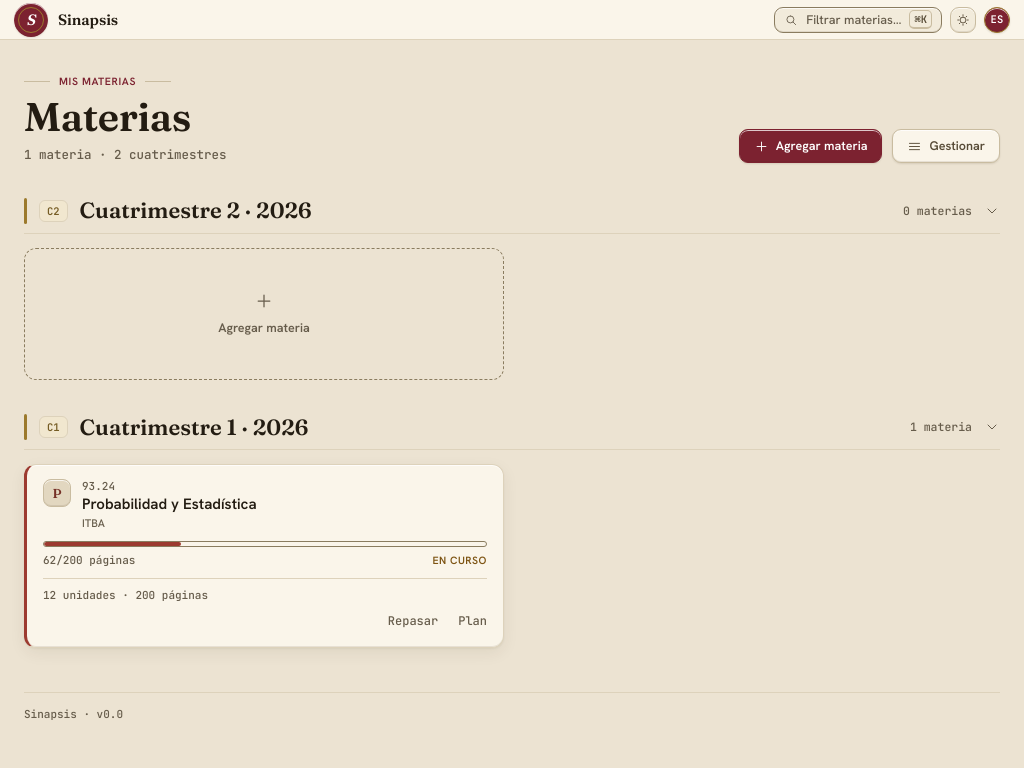
Test: <LandingPage/> · agregar cuatrimestre › no duplica un cuatrimestre que solo difiere en la caja
The width and height of the screenshot is (1024, 768).
Expected: the element "Cuatrimestre 2 · 2026" is shown, x1=24 y1=189 x2=1000 y2=380
Click the button "Gestionar" at (946, 146), box x1=892 y1=129 x2=1000 y2=163
(page scrolled)
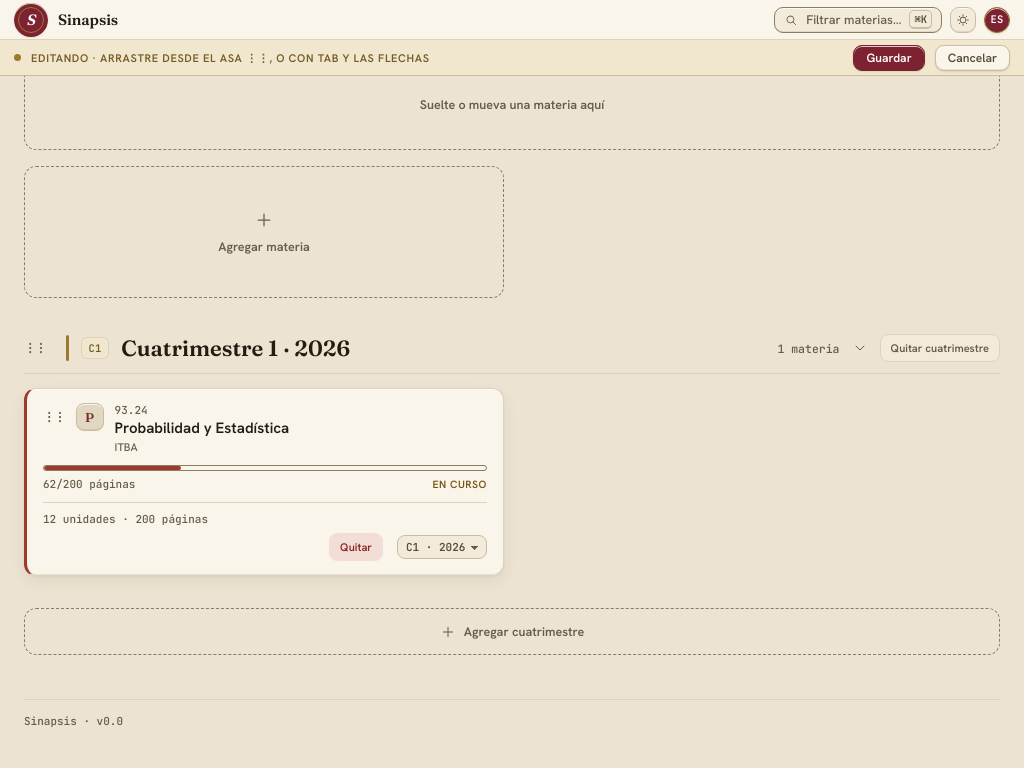
Click the button "Agregar cuatrimestre" at (512, 632), box x1=24 y1=608 x2=1000 y2=655
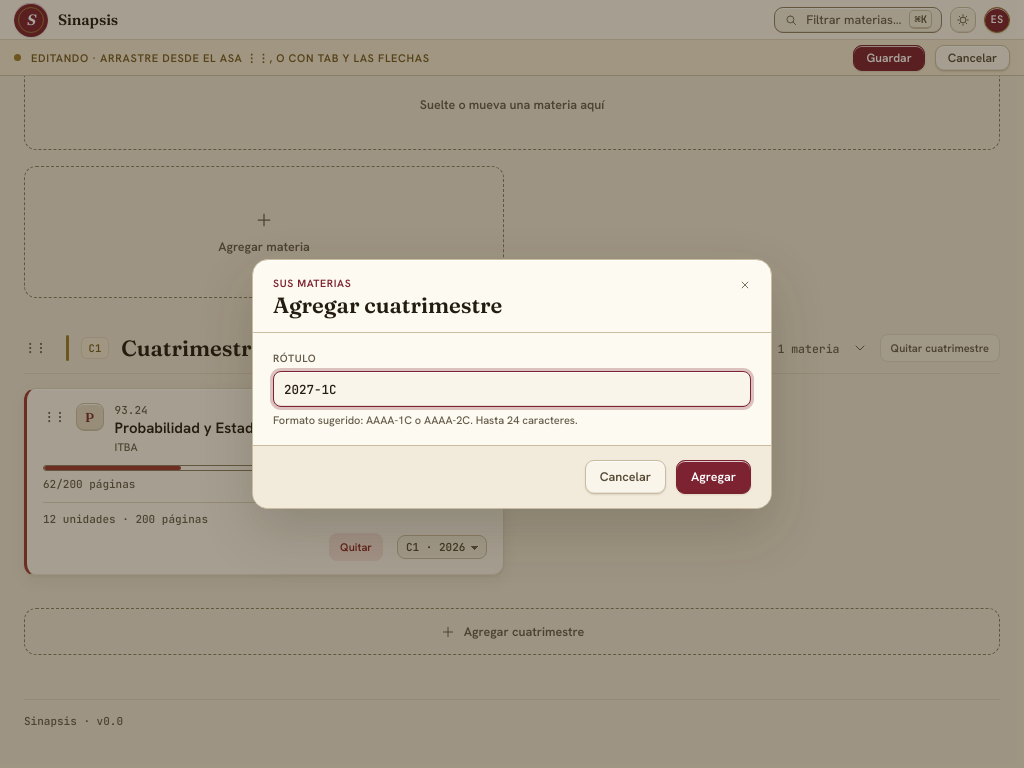
Replace the text in the field labelled "Rótulo" with "2026-1c" at (512, 389), box x1=273 y1=371 x2=751 y2=407
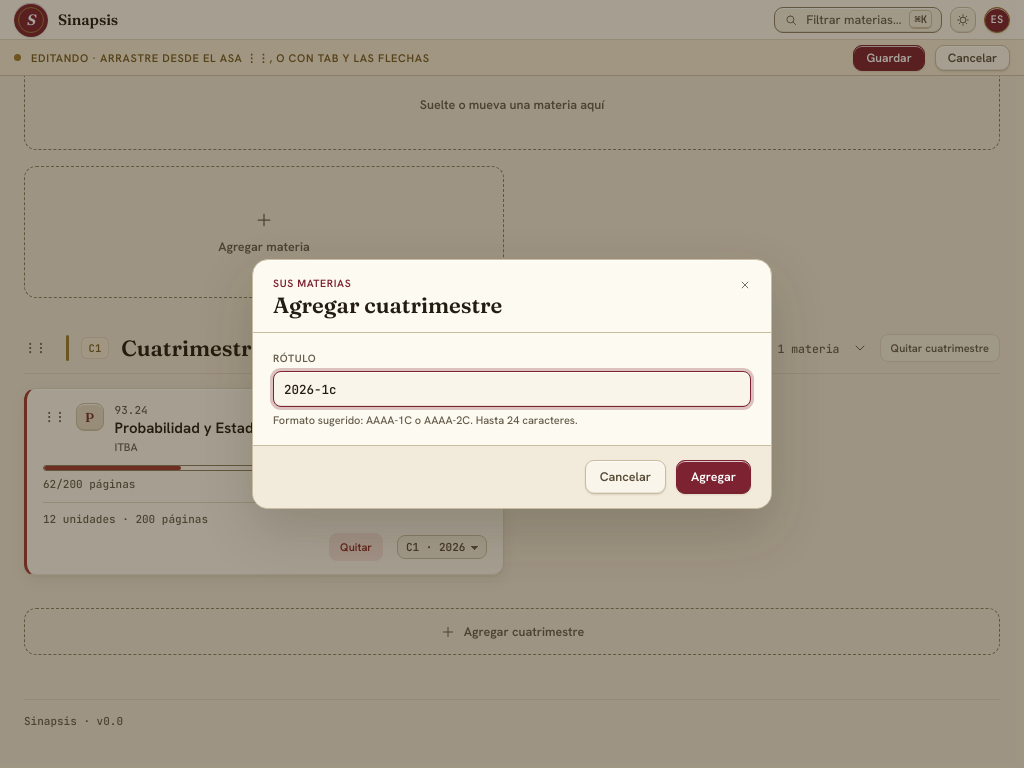
Click the button "Agregar" at (714, 477), box x1=676 y1=460 x2=751 y2=494
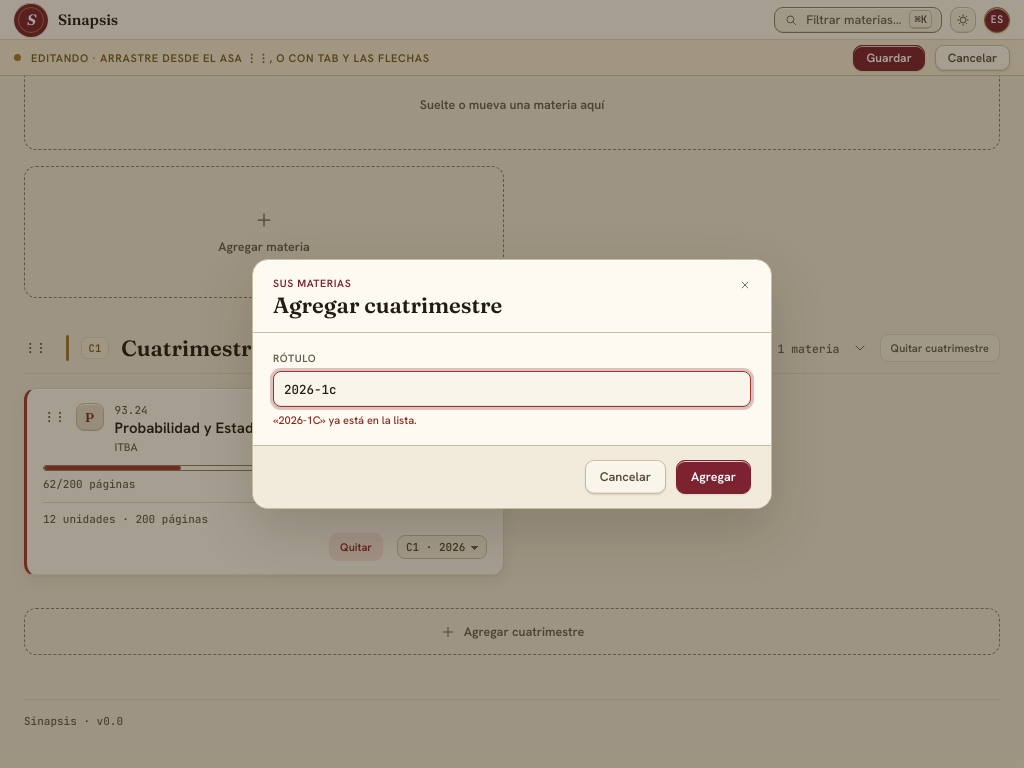
Expected: the number of elements "Cuatrimestre 1 · 2026" is 1, x1=24 y1=324 x2=1000 y2=576
Result: the text "«2026-1C» ya está en la lista." is shown at x1=273 y1=413 x2=417 y2=427
